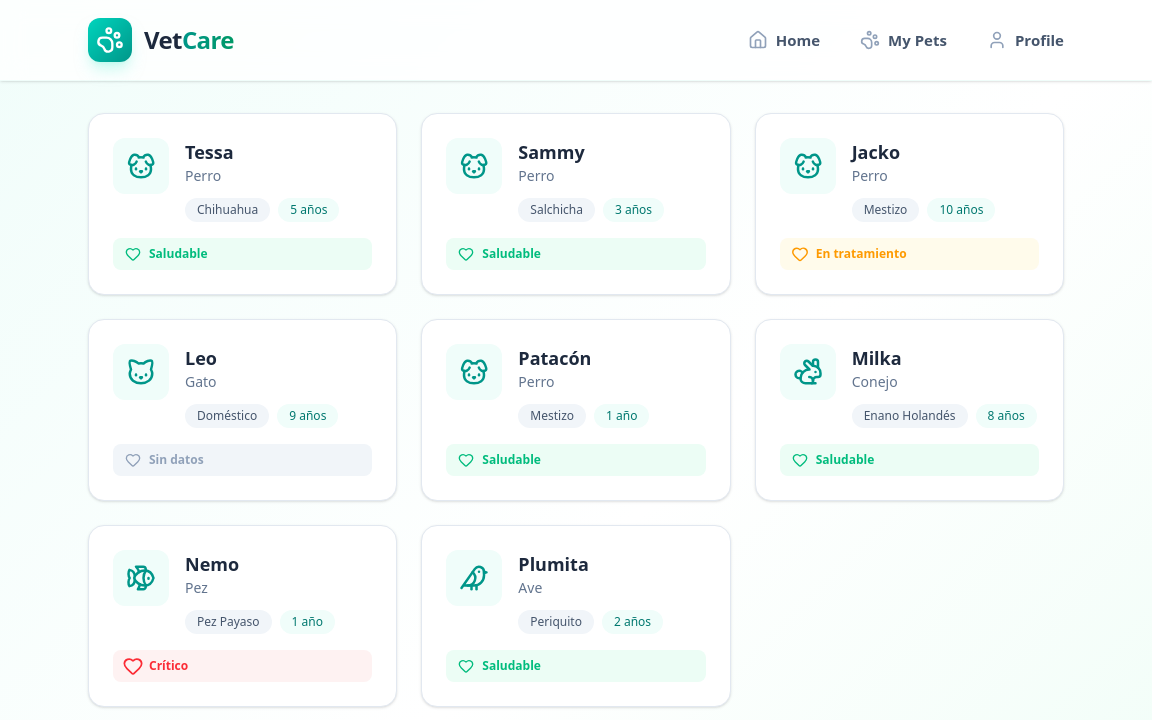
Test: Pet Profile › should switch between tabs and show correct content
What coordinates should you click on to do the following:
click the heading "Tessa"
I would click on:
 (210, 152)
Its box is [185, 140, 234, 164].
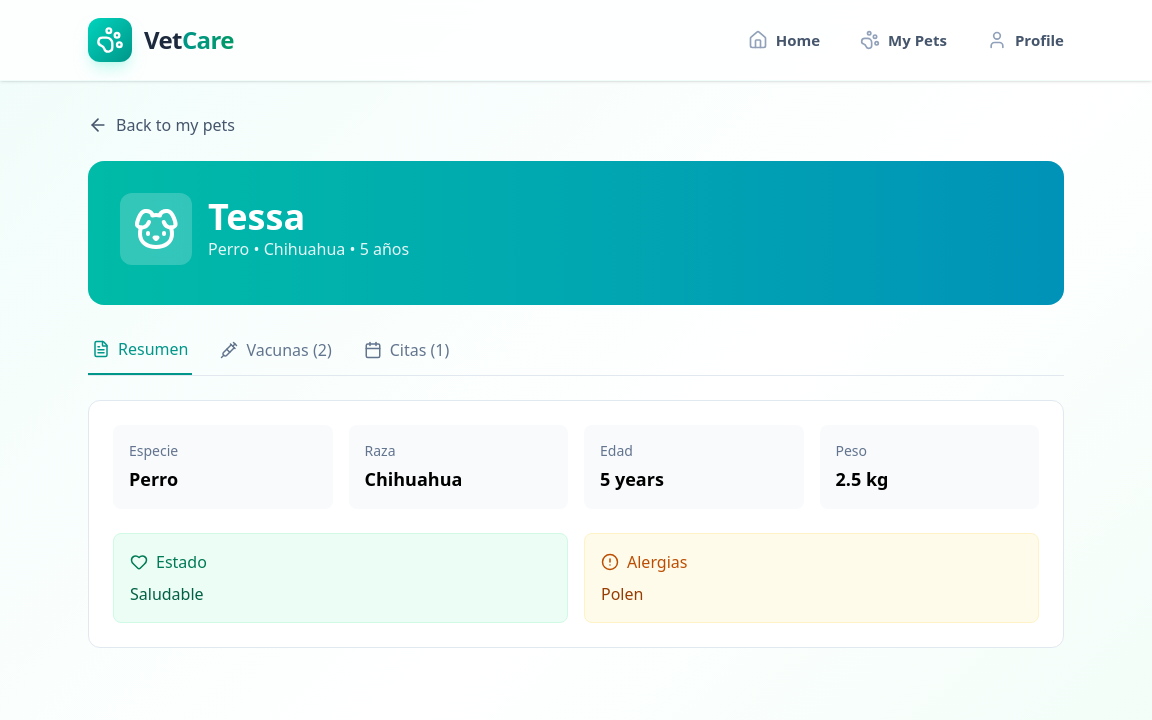
What coordinates should you click on to do the following:
click the button with test id "tab-vacunas"
I would click on:
 (276, 356)
Its box is [216, 337, 335, 375].
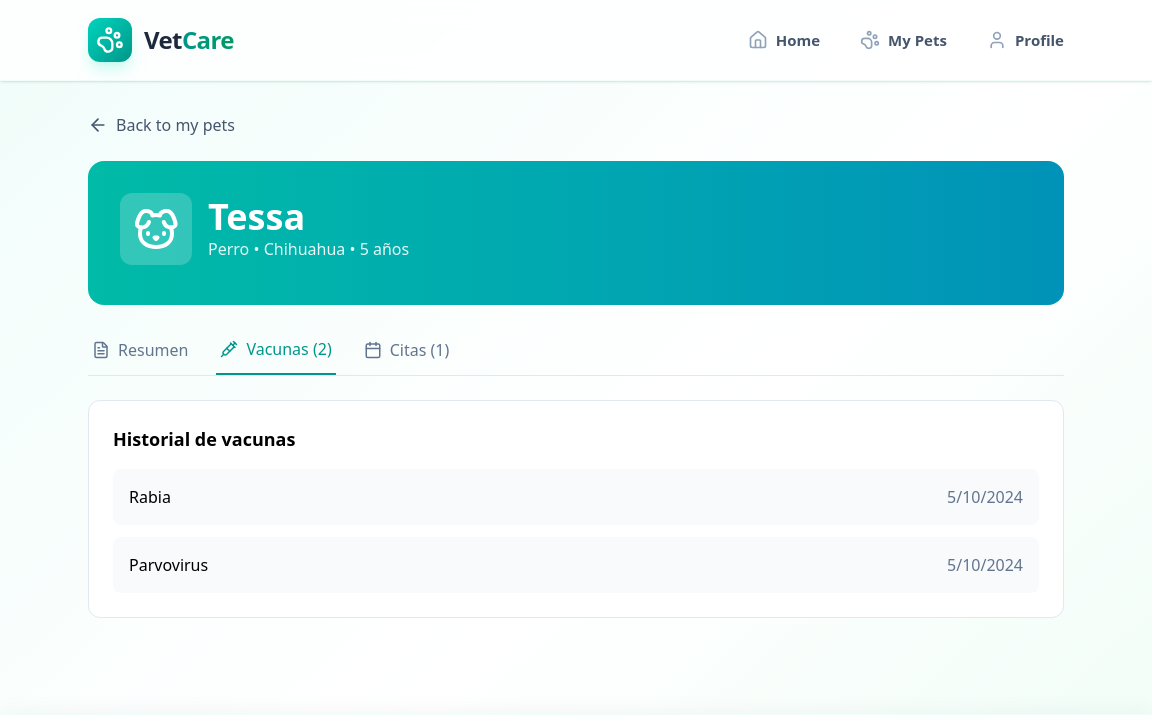
Now the heading "Historial de vacunas" is shown, box [113, 427, 295, 451]
Now the text "Rabia" is shown, box [129, 485, 171, 509]
Now the text "Parvovirus" is shown, box [129, 553, 208, 577]
What coordinates should you click on to do the following:
click the button with test id "tab-consultas"
I would click on:
 (407, 356)
Its box is [360, 337, 454, 375].
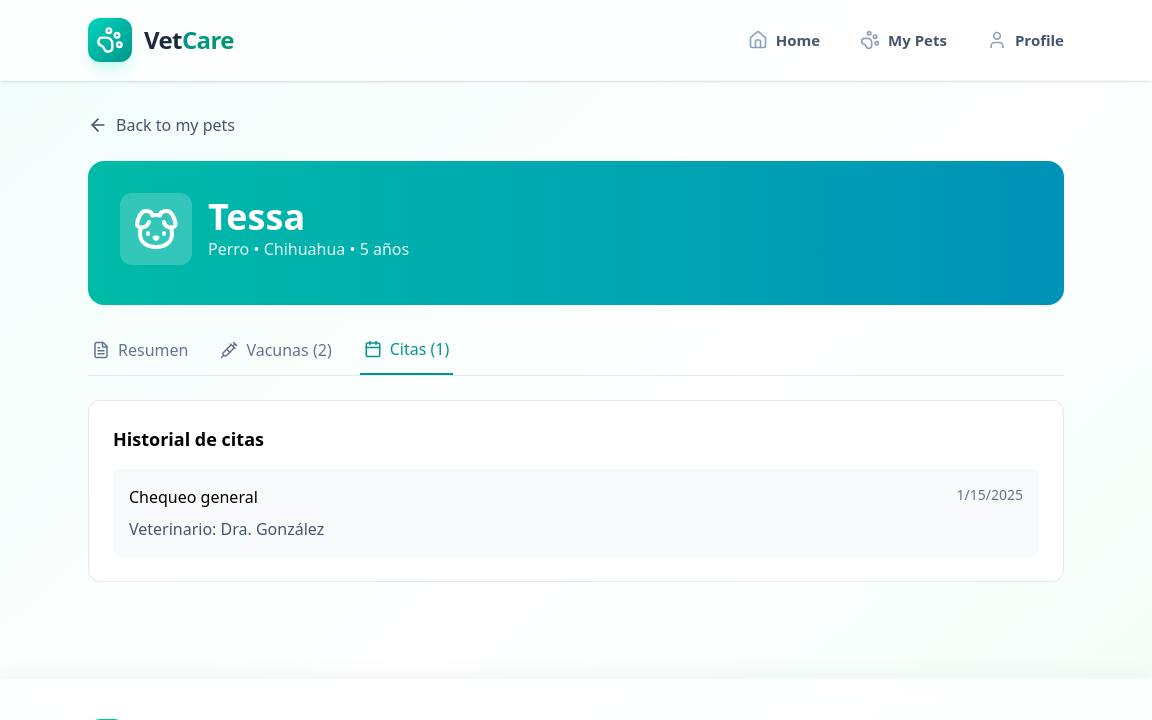
Now the heading "Historial de citas" is shown, box [113, 427, 264, 451]
Now the text "Chequeo general" is shown, box [129, 485, 258, 509]
Now the text "Dra. González" is shown, box [221, 518, 325, 540]
What coordinates should you click on to do the following:
click the button with test id "tab-resumen"
I would click on:
 (140, 356)
Its box is [88, 337, 192, 375].
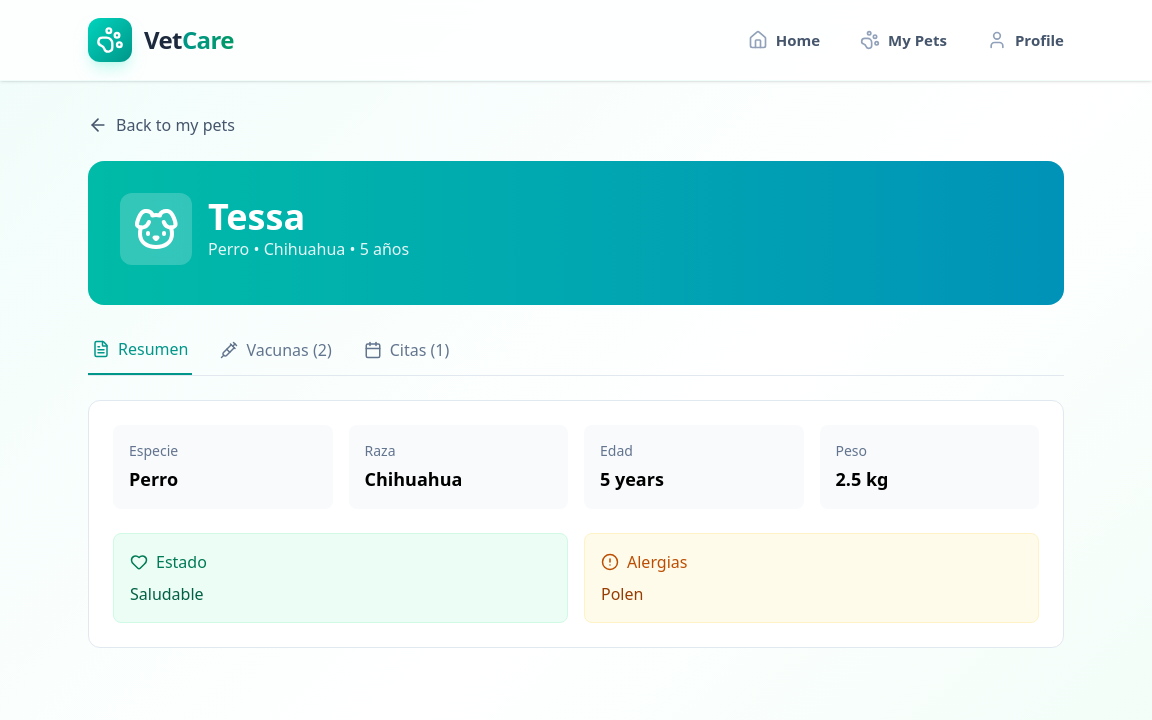
Now the text "Alergias" is shown, box [627, 550, 687, 574]
Now the text "Polen" is shown, box [601, 583, 643, 605]
